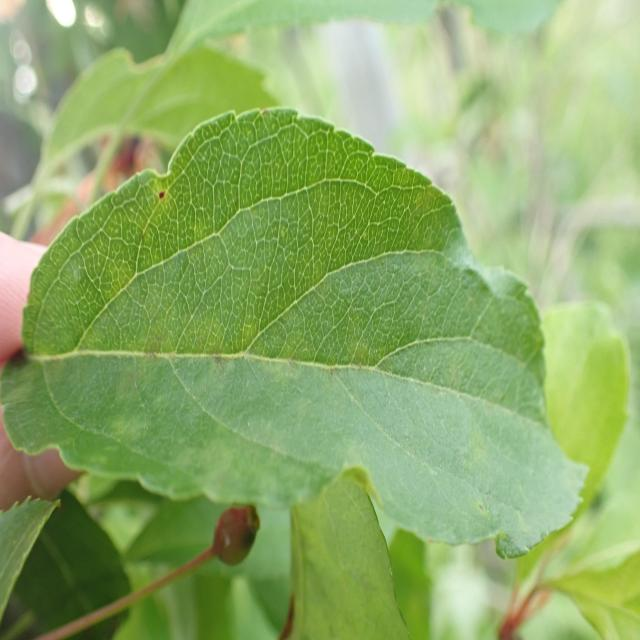scab: (43, 164, 558, 512)
